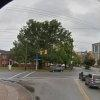Car: (73, 60, 100, 96)
